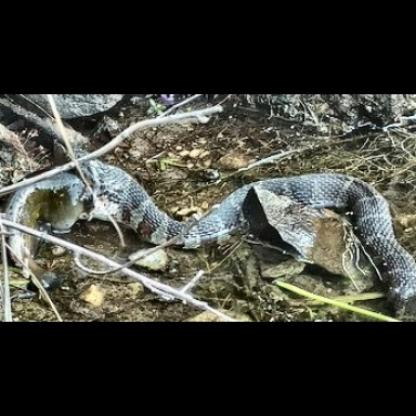Snake: (5, 158, 415, 314)
